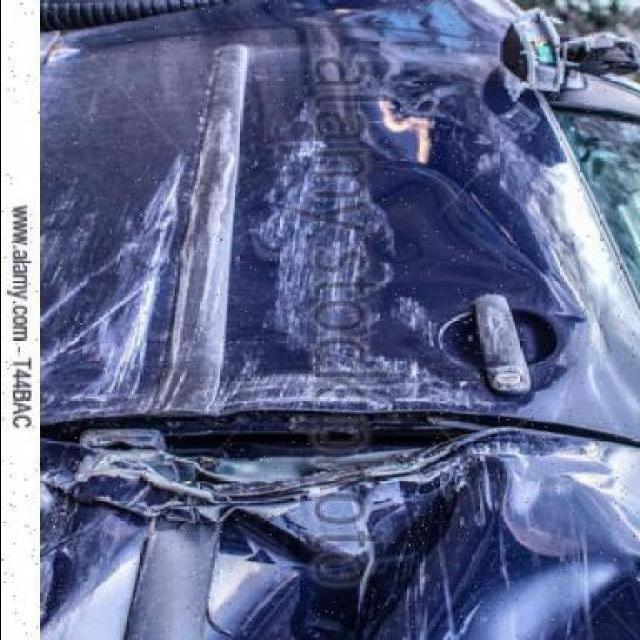doorouter-dent: (32, 60, 554, 427)
